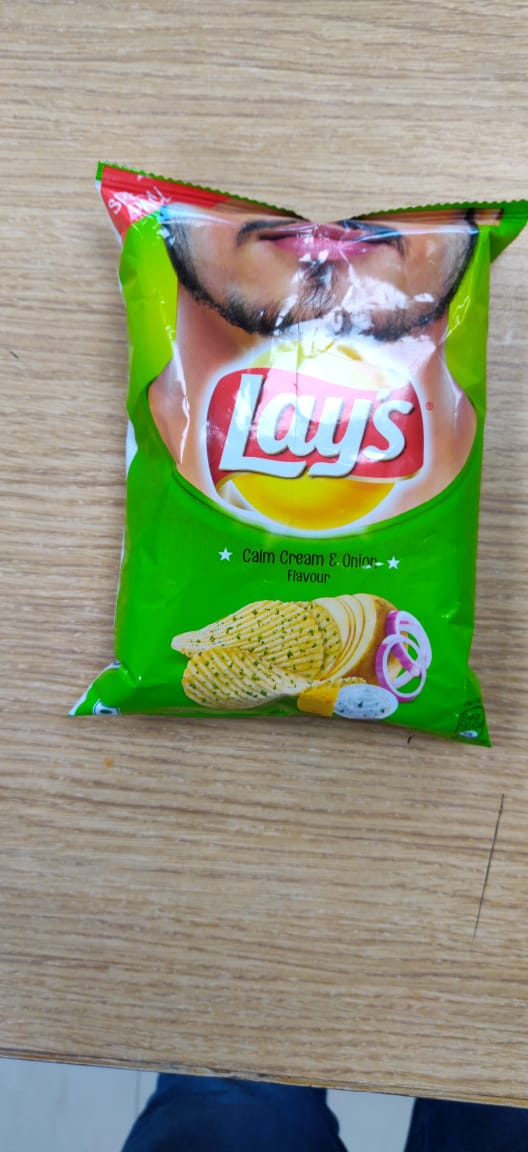lays chips: (66, 153, 528, 789)
